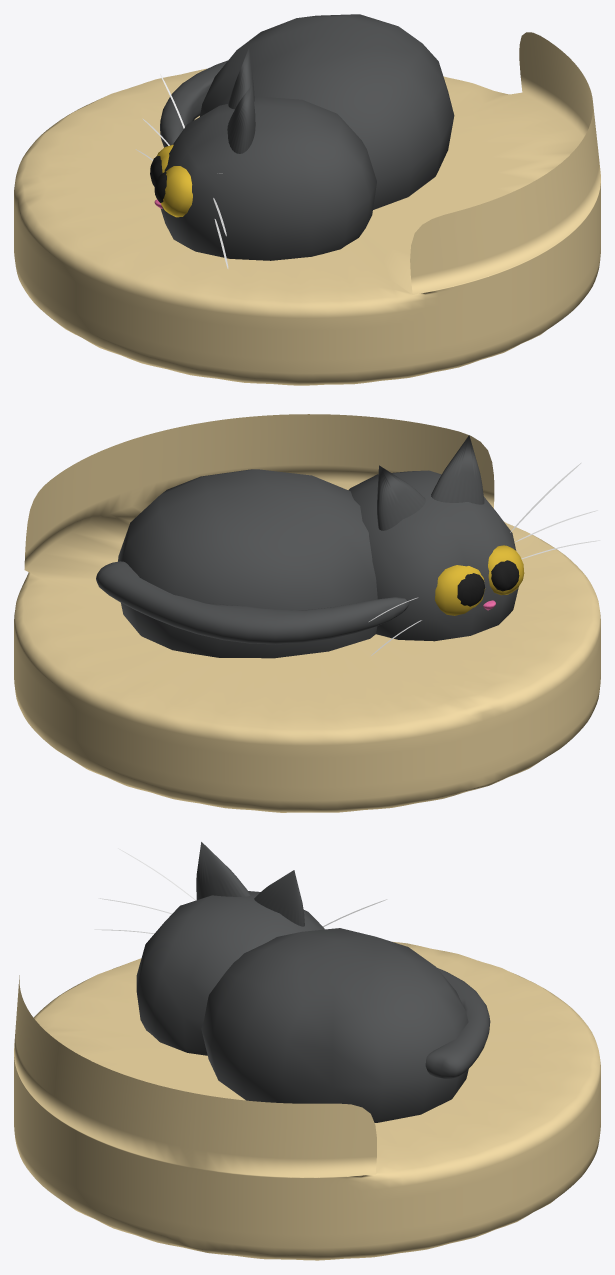
Rendered from cat.glb.
3 renders of one model, top to bottom at view 1: azimuth 30°, elevation 25°; view 2: azimuth 150°, elevation 25°; view 3: azimuth 270°, elevation 25°, orthographic.
Visible parts, largest first — view 1: cat; view 2: cat; view 3: cat.
Boxes of the visible parts, x1,y1,x2,y2 form: cat: (14,14,600,385); cat: (14,414,600,812); cat: (14,842,600,1260).
Bounding box in the file's own units: 7.82 × 3.73 × 7.82.
